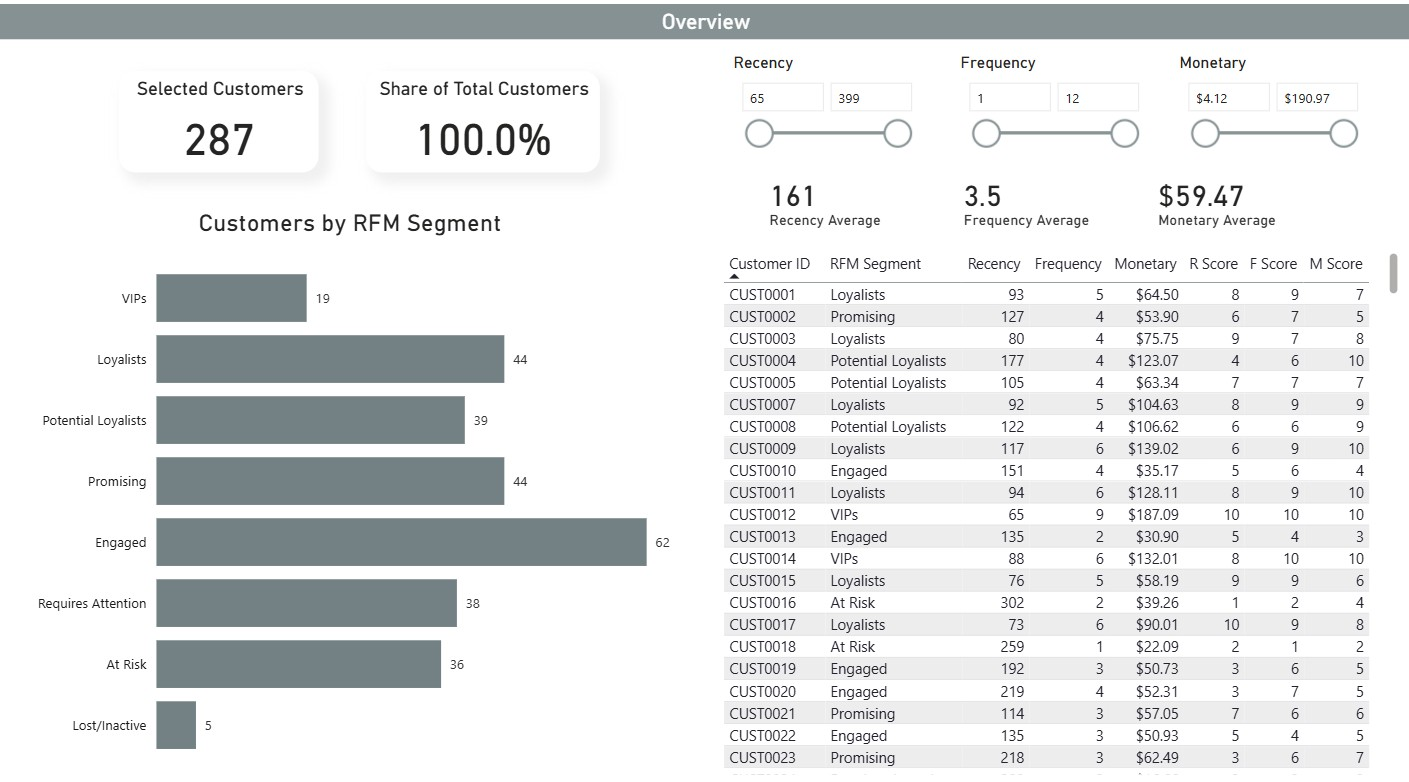

This screenshot's page, from the dashboard's own definition file:
{"tool":"powerbi","page":{"name":"Overview","canvas":[1280,720],"ordinal":0},"visuals":[{"type":"tableEx","fields":{"Values":["rfm_segments_final_denserank.CustomerID","rfm_segments_final_denserank.rfm_segment","Sum(rfm_segments_final_denserank.recency)","Sum(rfm_segments_final_denserank.frequency)","Sum(rfm_segments_final_denserank.monetary)","Sum(rfm_segments_final_denserank.r_score)","Sum(rfm_segments_final_denserank.f_score)","Sum(rfm_segments_final_denserank.m_score)"]},"box":[650.2,229.4,623,483.3],"z":0},{"type":"clusteredBarChart","title":"Customers by RFM Segment","fields":{"Category":["rfm_segments_final_denserank.rfm_segment"],"Y":["CountNonNull(rfm_segments_final_denserank.rfm_segment)"]},"box":[20.9,195,593,517.8],"z":1000},{"type":"card","title":"Selected Customers","fields":{"Values":["rfm_segments_final.selected_customers"]},"box":[107.9,69.8,181.4,92.5],"z":2000},{"type":"card","title":"Share of Total Customers","fields":{"Values":["rfm_segments_final.percent_of_selected_customers"]},"box":[331.9,69.8,212.2,92.5],"z":3000},{"type":"multiRowCard","title":"Average Recency","fields":{"Values":["rfm_segments_final.avg_recency","rfm_segments_final.avg_frequency","rfm_segments_final.avg_monetary"]},"box":[692.8,162.3,538.6,59.8],"z":4000},{"type":"textbox","box":[0,9.1,1280.4,31.7],"z":5000},{"type":"slicer","title":"Monetary","fields":{"Values":["rfm_segments_final.monetary"]},"box":[1064.6,54.4,175,95.2],"z":6000},{"type":"slicer","title":"Frequency","fields":{"Values":["rfm_segments_final.frequency"]},"box":[866,54.4,175,95.2],"z":7000},{"type":"slicer","title":"Recency","fields":{"Values":["rfm_segments_final.recency"]},"box":[660.2,54.4,175,95.2],"z":8000}]}

Visuals, with their boxes in screenshot pixels (x1, y1, x2, y2), scaled from the page's 1280x720 canvas onto the 1409x782 screenshot:
tableEx - rfm_segments_final_denserank.CustomerID x rfm_segments_final_denserank.rfm_segment: <region>716, 249, 1402, 774</region>
"Customers by RFM Segment" clusteredBarChart: <region>23, 212, 676, 774</region>
"Selected Customers" card: <region>119, 76, 318, 176</region>
"Share of Total Customers" card: <region>365, 76, 599, 176</region>
"Average Recency" multiRowCard: <region>763, 176, 1356, 241</region>
textbox: <region>0, 10, 1408, 44</region>
"Monetary" slicer: <region>1172, 59, 1365, 162</region>
"Frequency" slicer: <region>953, 59, 1146, 162</region>
"Recency" slicer: <region>727, 59, 919, 162</region>
